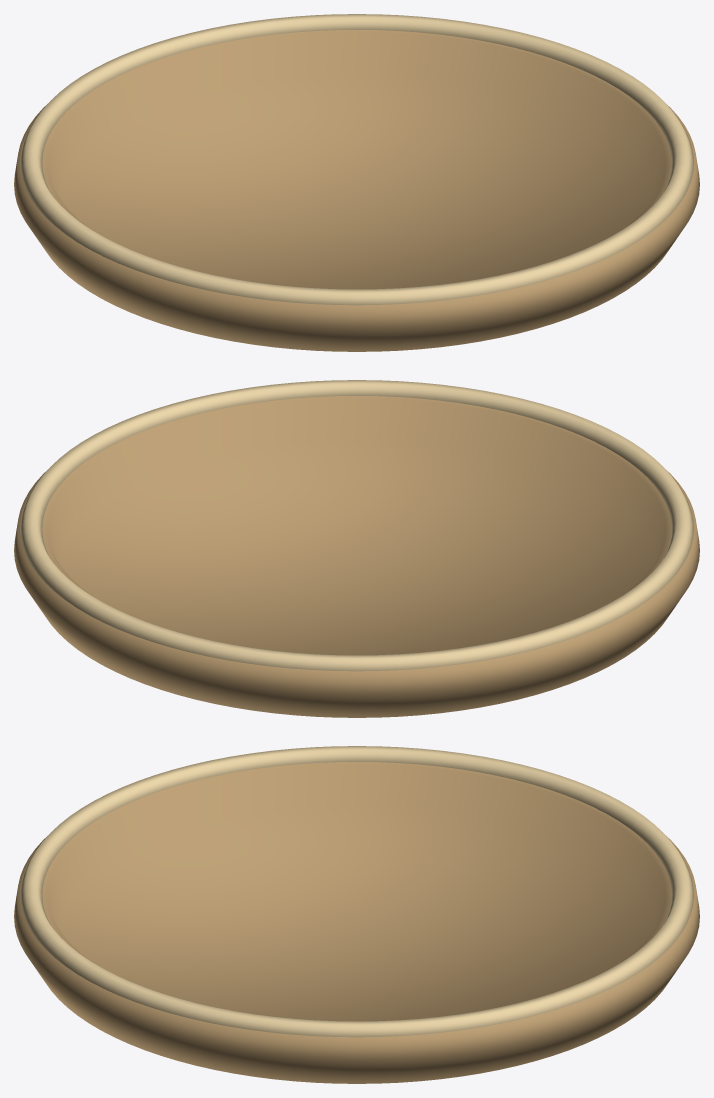
Rendered from round_countryside_r4.glb.
3 renders of one model, top to bottom at view 1: azimuth 30°, elevation 25°; view 2: azimuth 150°, elevation 25°; view 3: azimuth 270°, elevation 25°, orthographic.
Visible parts, largest first — view 1: round_countryside_r4; view 2: round_countryside_r4; view 3: round_countryside_r4.
Part boxes in pixels (x1,y1,x2,y2): round_countryside_r4: (14,14,699,351); round_countryside_r4: (14,380,699,717); round_countryside_r4: (14,746,699,1083).
Bounding box in the file's own units: 4 × 0.3963 × 4.
